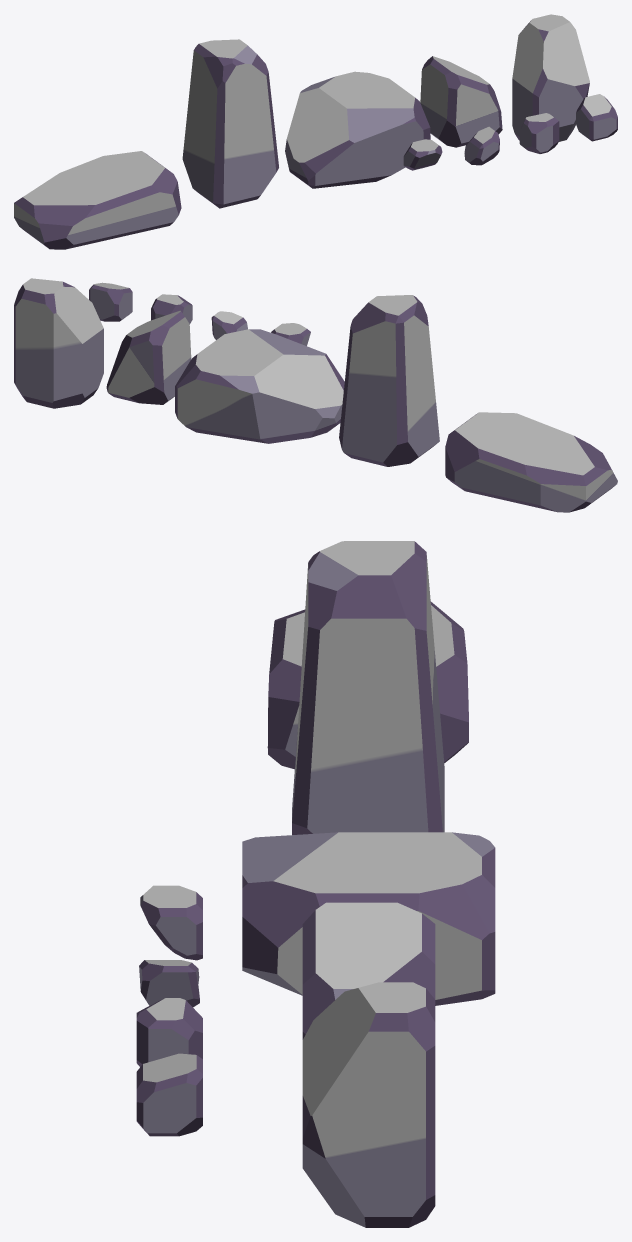
File: Rocks.fbx
3 renders of one model, top to bottom at view 1: azimuth 30°, elevation 25°; view 2: azimuth 150°, elevation 25°; view 3: azimuth 270°, elevation 25°, orthographic. The views are drawn at different scales.
Parts seen in each view (by area): view 1: Rock004, Rock003, Rock005, Rock001, Rock002, Stone001, Stone002, Stone003, Stone004; view 2: Rock003, Rock004, Rock005, Rock001, Rock002, Stone001, Stone002, Stone003, Stone004; view 3: Rock004, Rock001, Rock003, Rock002, Rock005, Stone001, Stone002, Stone004, Stone003.
Part boxes in pixels (x1,y1,x2,y2): Rock004: (182,39,278,208); Rock003: (285,71,430,188); Rock005: (14,151,181,249); Rock001: (512,14,589,141); Rock002: (420,56,502,147); Stone001: (576,94,617,141); Stone002: (519,113,559,153); Stone003: (464,126,499,165); Stone004: (403,139,442,170); Rock003: (175,329,344,443); Rock004: (339,295,439,466); Rock005: (445,412,617,512); Rock001: (14,278,103,408); Rock002: (106,310,191,404); Stone001: (89,282,132,321); Stone002: (151,294,192,324); Stone003: (211,311,247,339); Stone004: (271,323,310,345); Rock004: (292,541,444,834); Rock001: (302,982,435,1227); Rock003: (242,832,495,1005); Rock002: (302,902,435,1039); Rock005: (267,601,468,769); Stone001: (136,1053,202,1136); Stone002: (136,998,202,1066); Stone004: (140,885,202,960); Stone003: (139,960,199,1007).
Size of the model in its own units: 541 by 555 by 1907.
